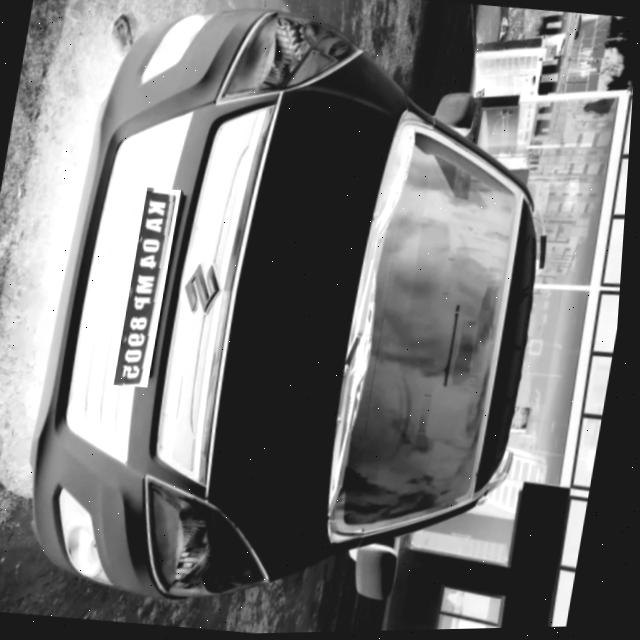Non_registered: (118, 187, 183, 388)
